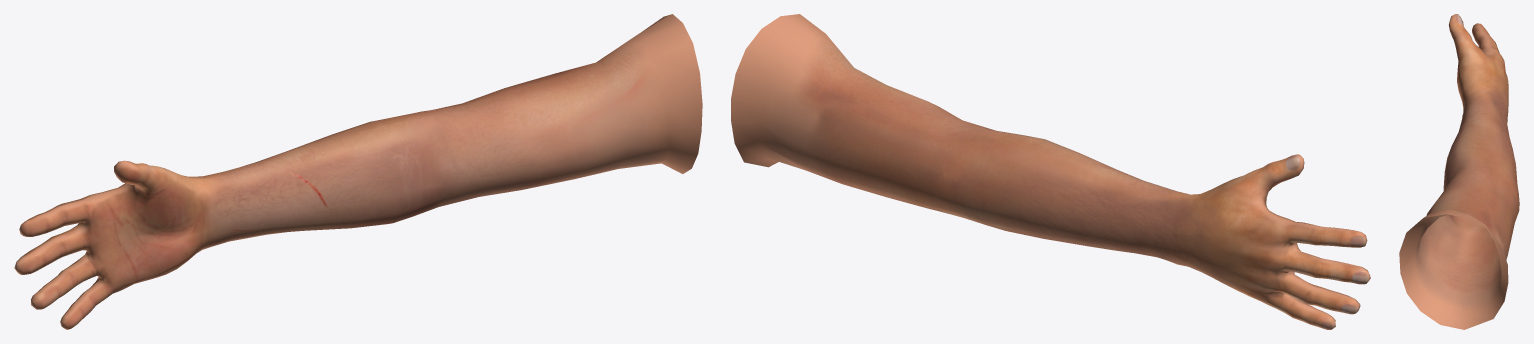
Rendered from righthand.fbx.
3 renders of one model, left to right at view 1: azimuth 30°, elevation 25°; view 2: azimuth 150°, elevation 25°; view 3: azimuth 270°, elevation 25°, orthographic. The views are drawn at different scales.
Parts seen in each view (by area): view 1: hands_all; view 2: hands_all; view 3: hands_all.
Boxes of the visible parts, x1=… form: hands_all: x1=14, y1=14, x2=702, y2=329; hands_all: x1=731, y1=14, x2=1370, y2=329; hands_all: x1=1399, y1=14, x2=1519, y2=329.
Size of the model in its own units: 70.1 by 17.62 by 14.6.
